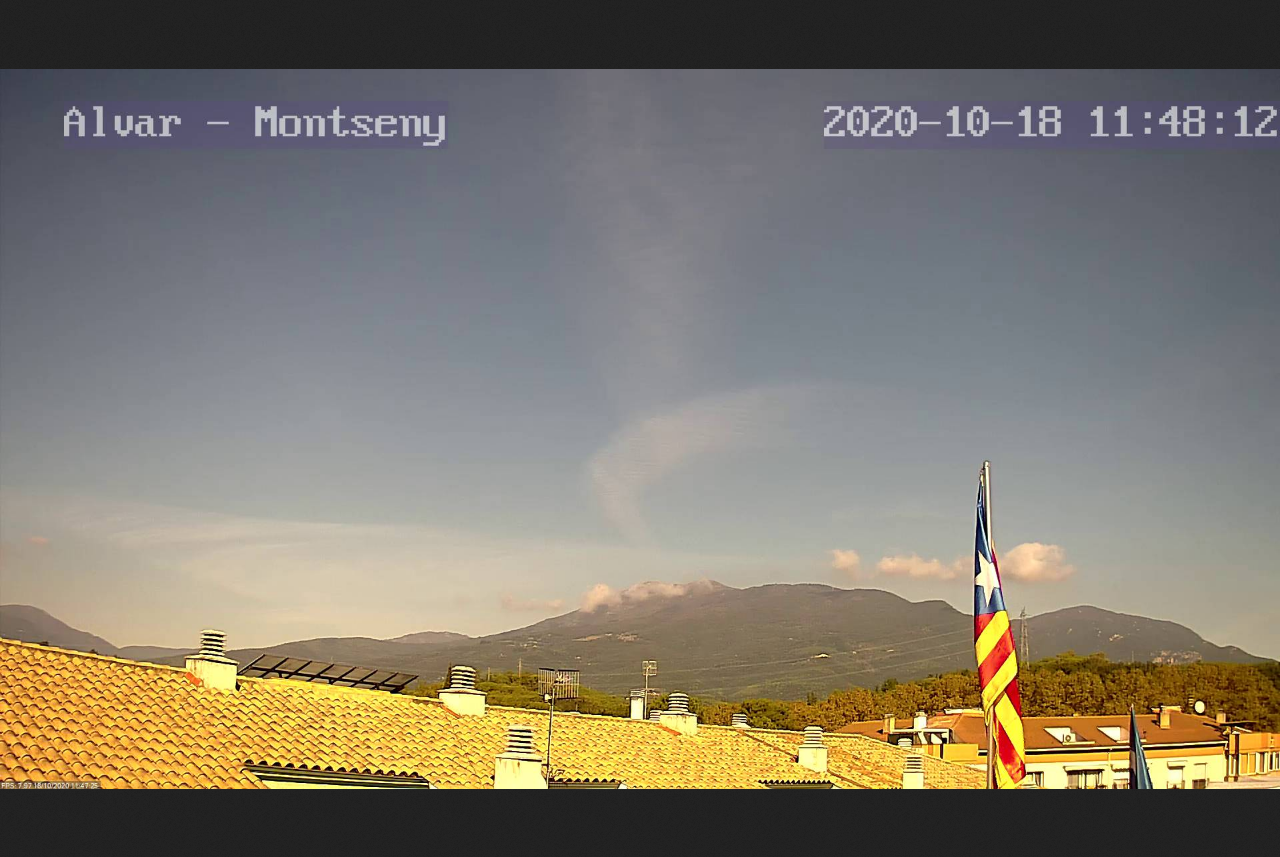no: (963, 469, 1040, 791)
